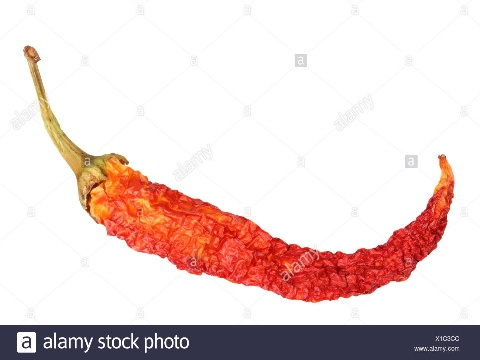Chilli: (20, 43, 466, 304)
